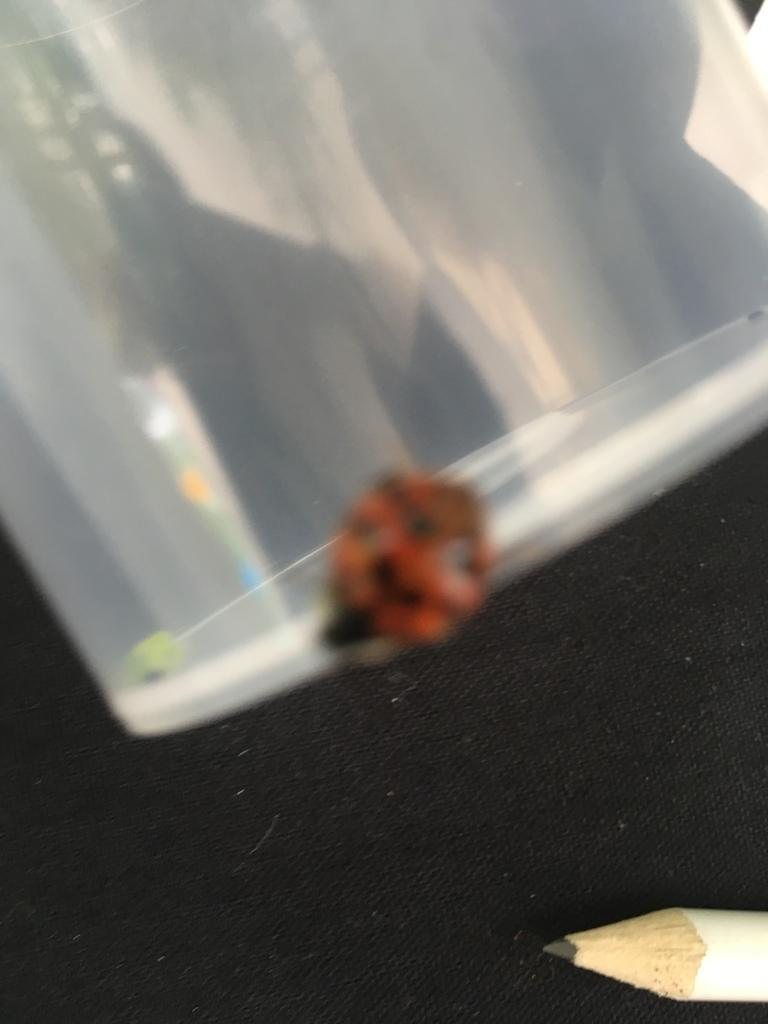ladybug: (314, 464, 506, 669)
